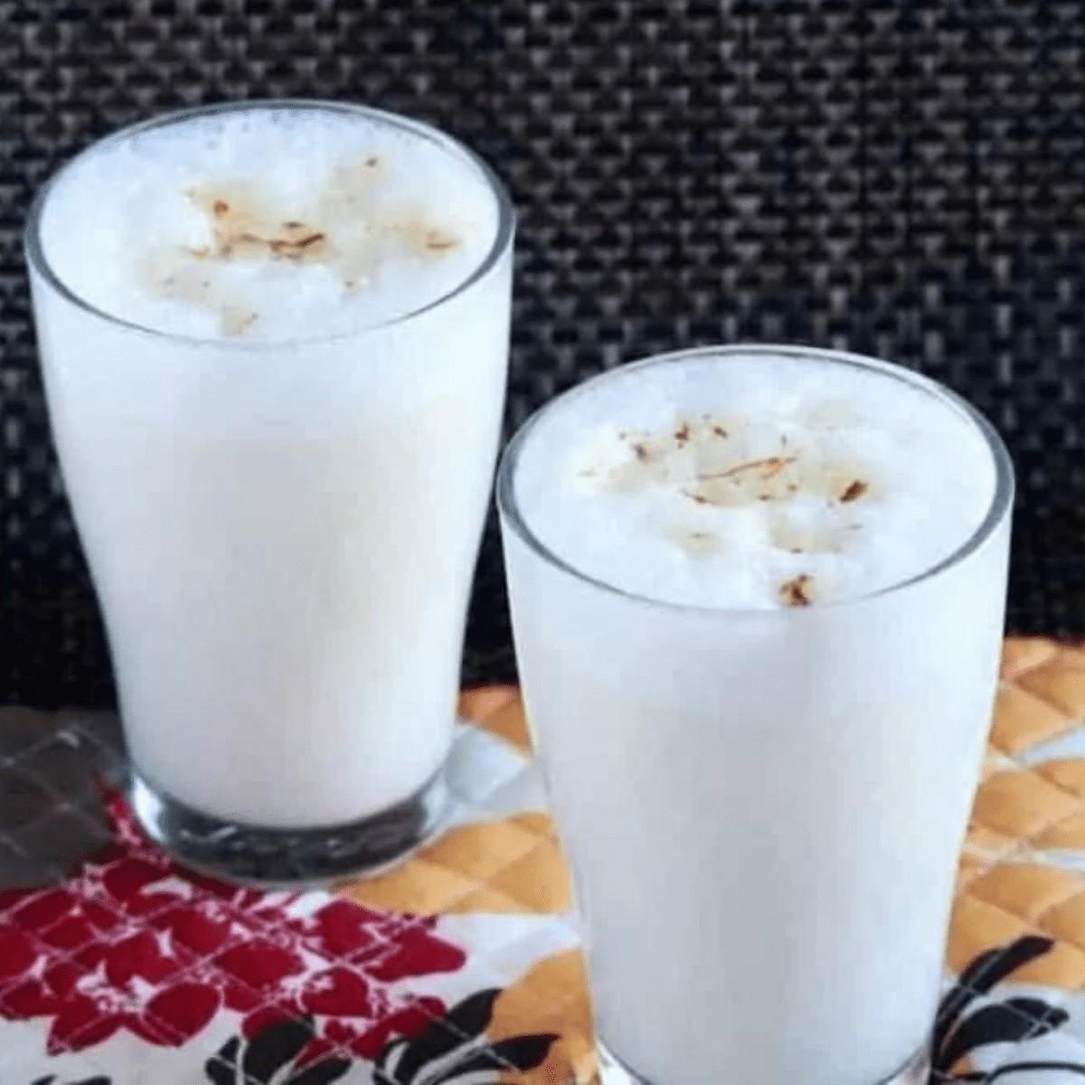Lassi: (506, 349, 1010, 1081), (31, 107, 509, 828)
